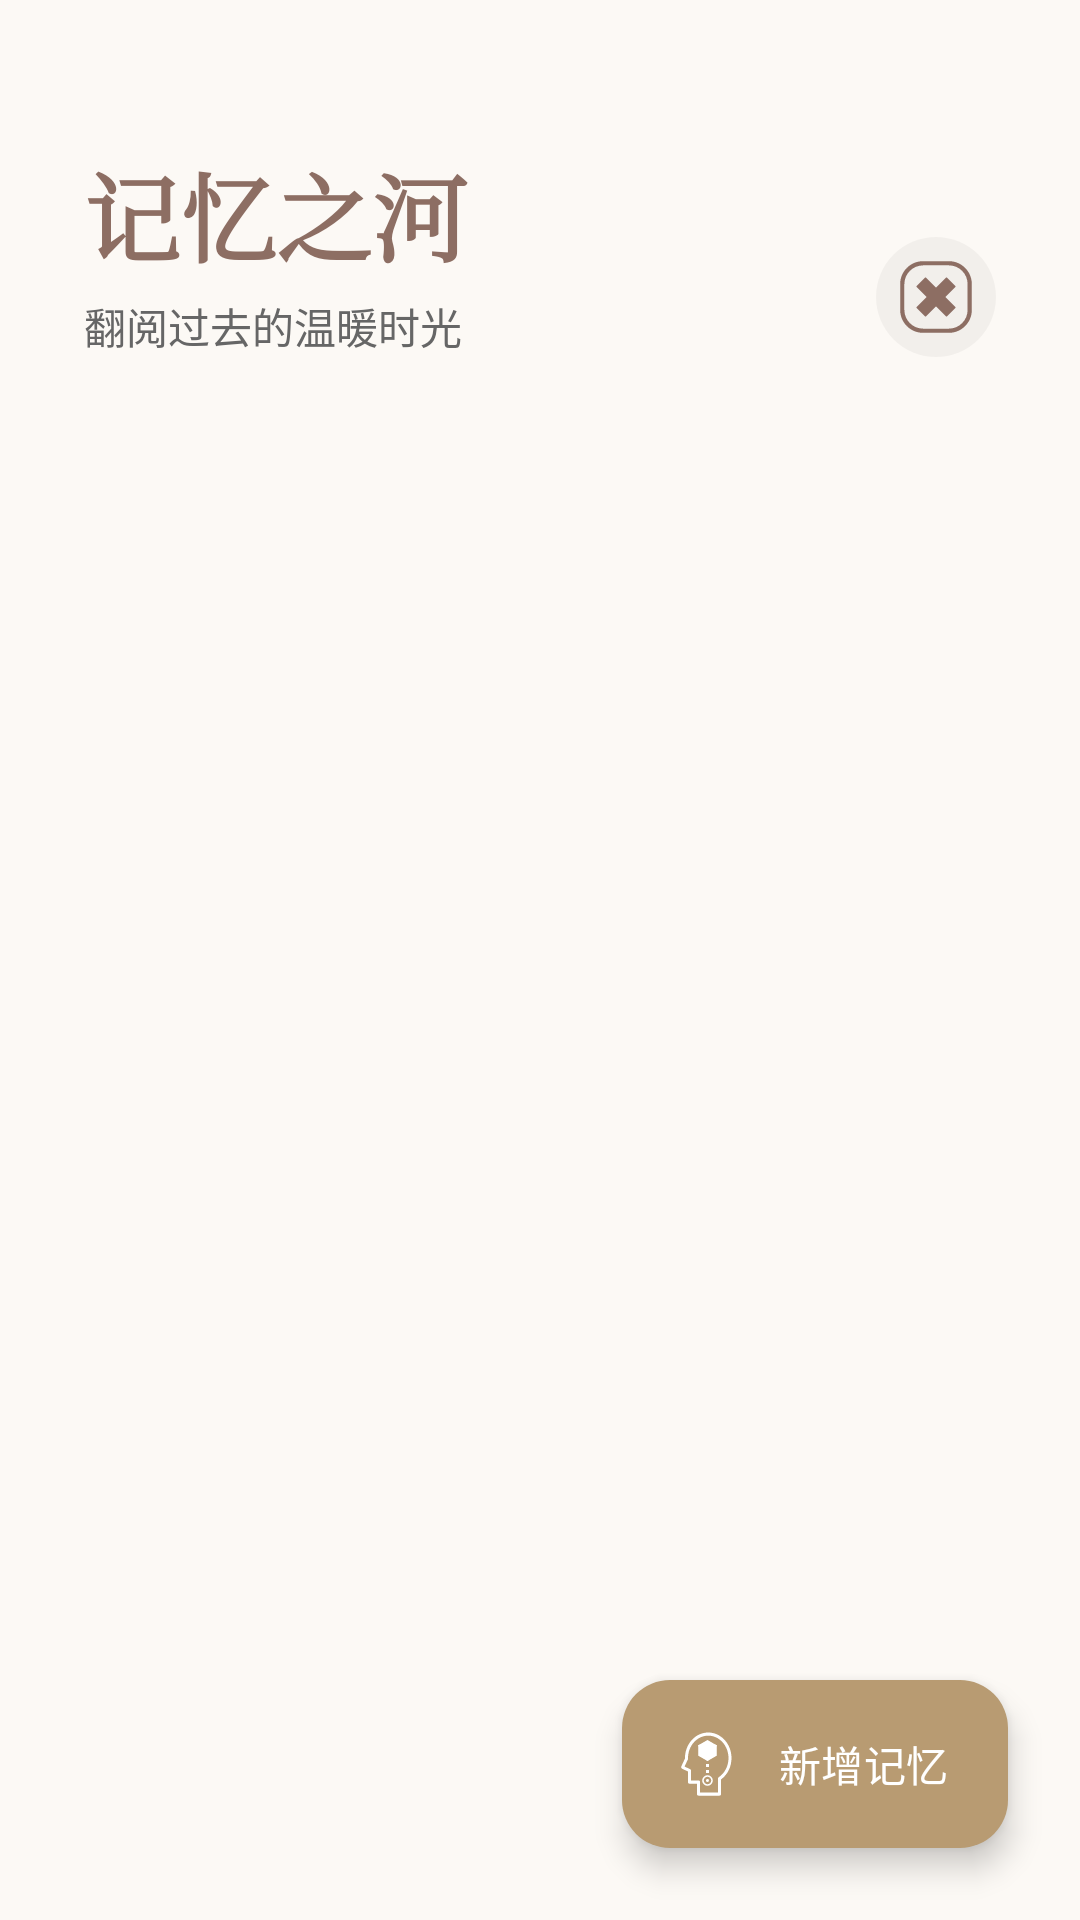

Named icons in this screenshot (1080w x 1920h) and their centers, [x,y]:
close: [936,297]
